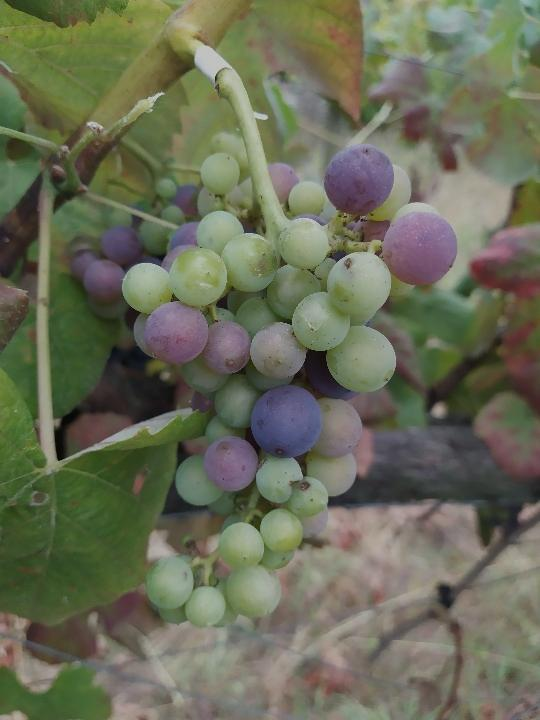grape: (118, 142, 461, 632)
